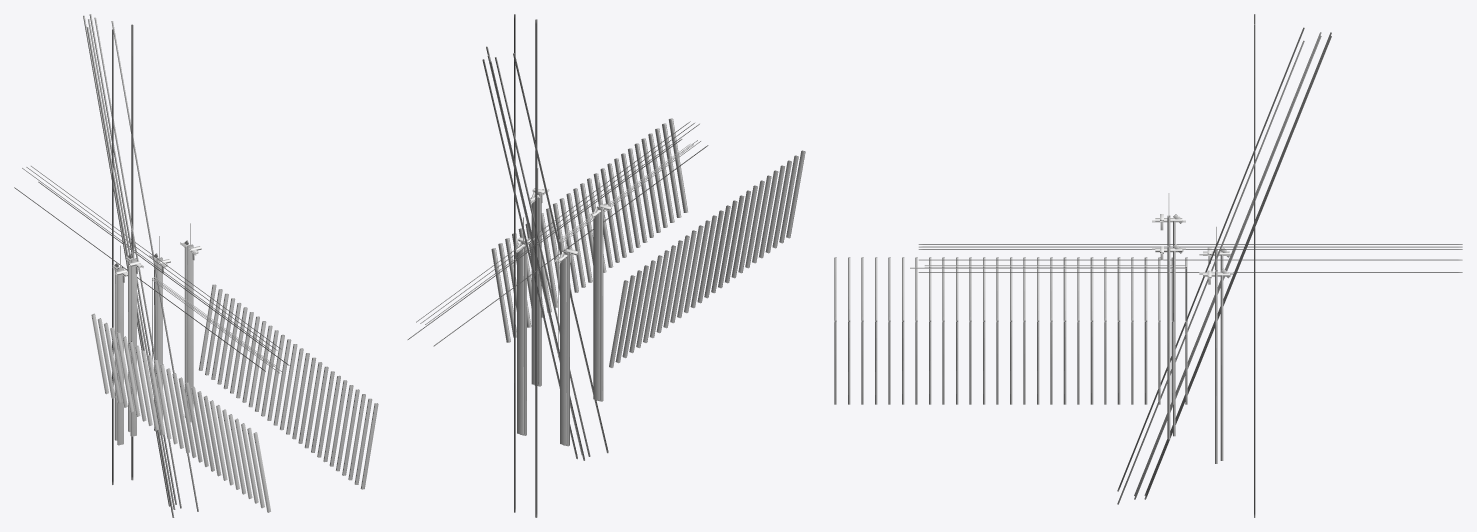
Rendered from blackmetalmeshes5.obj.
3 renders of one model, left to right at view 1: azimuth 30°, elevation 25°; view 2: azimuth 150°, elevation 25°; view 3: azimuth 270°, elevation 25°, orthographic. The views are drawn at different scales.
Visible parts, largest first — view 1: blackmetalmeshes; view 2: blackmetalmeshes; view 3: blackmetalmeshes.
Boxes of the visible parts, bbox=[...] form: blackmetalmeshes: bbox=[14, 14, 378, 517]; blackmetalmeshes: bbox=[407, 14, 805, 517]; blackmetalmeshes: bbox=[834, 14, 1462, 517].
Size of the model in its own units: 290 by 1016 by 1173.
Materials: 1 (1 with a texture image).
